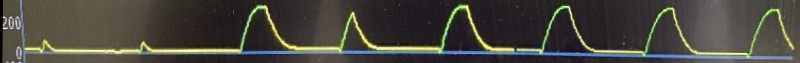normal_volume: (238, 1, 792, 62)
